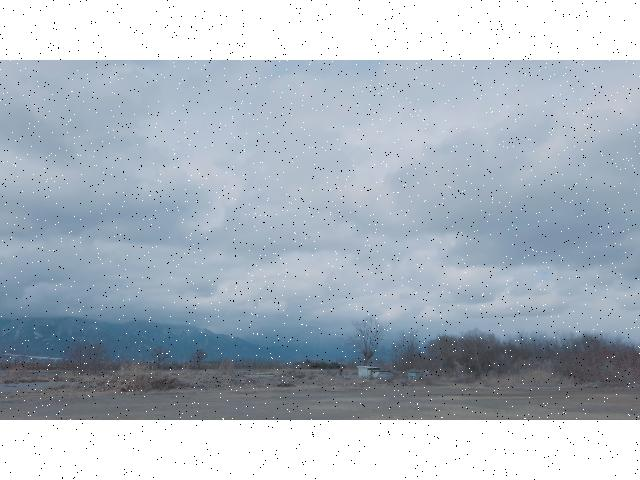Anti-Drone: (306, 233, 316, 241)
